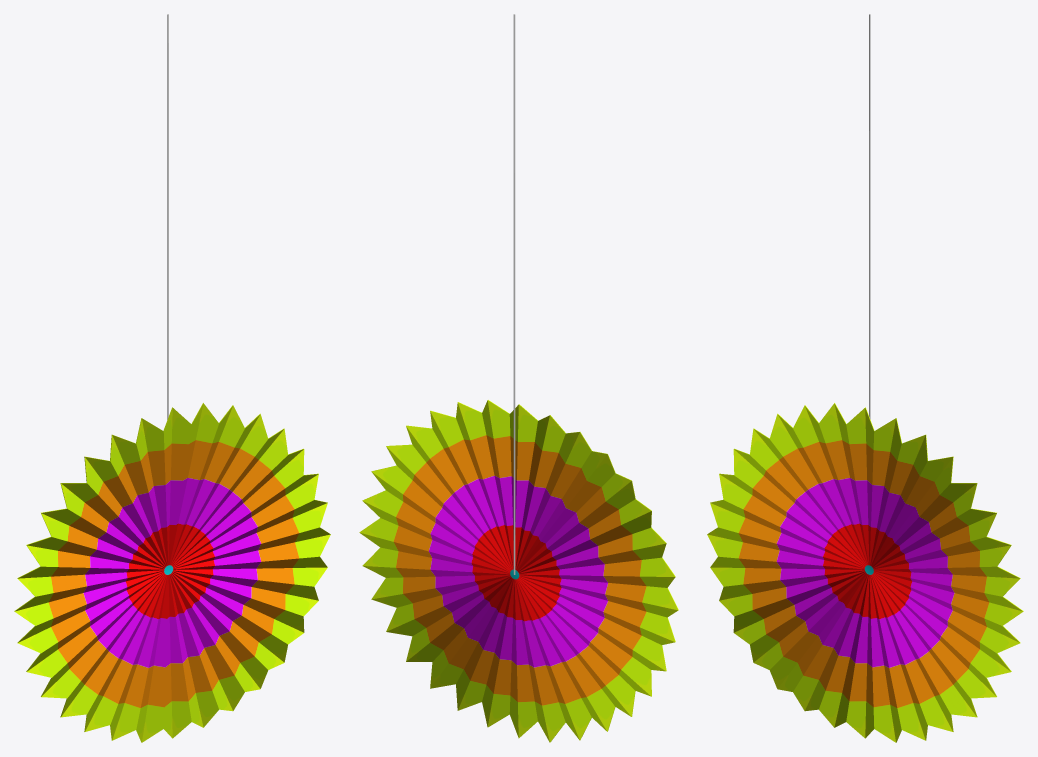
File: PartyHangings01B_1.FBX
The picture shows the model from 3 angles, left to right: view 1: azimuth 30°, elevation 25°; view 2: azimuth 150°, elevation 25°; view 3: azimuth 330°, elevation 25°; orthographic projection.
Parts seen in each view (by area): view 1: PartyHangings01B_1; view 2: PartyHangings01B_1; view 3: PartyHangings01B_1.
Part boxes in pixels (x1,y1,x2,y2): PartyHangings01B_1: [14, 14, 330, 742]; PartyHangings01B_1: [359, 14, 678, 742]; PartyHangings01B_1: [707, 14, 1023, 742].
Size of what is drawn, in the model's own units: 0.4575 by 0.9956 by 0.0254.
